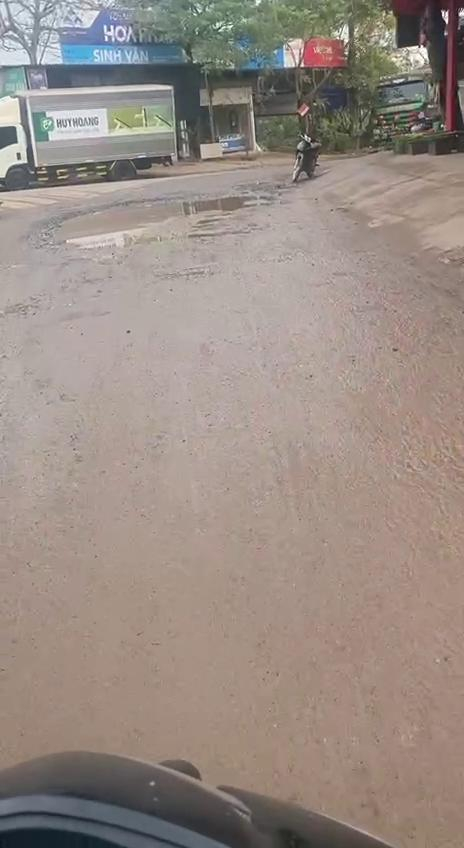pothole: (33, 188, 291, 258)
